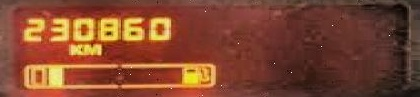0: (146, 15, 171, 40), (68, 16, 93, 40)
2: (22, 16, 44, 41)
3: (49, 16, 67, 41)
6: (119, 15, 144, 40)
8: (95, 15, 117, 41)
X: (82, 42, 102, 56), (66, 41, 82, 55)
